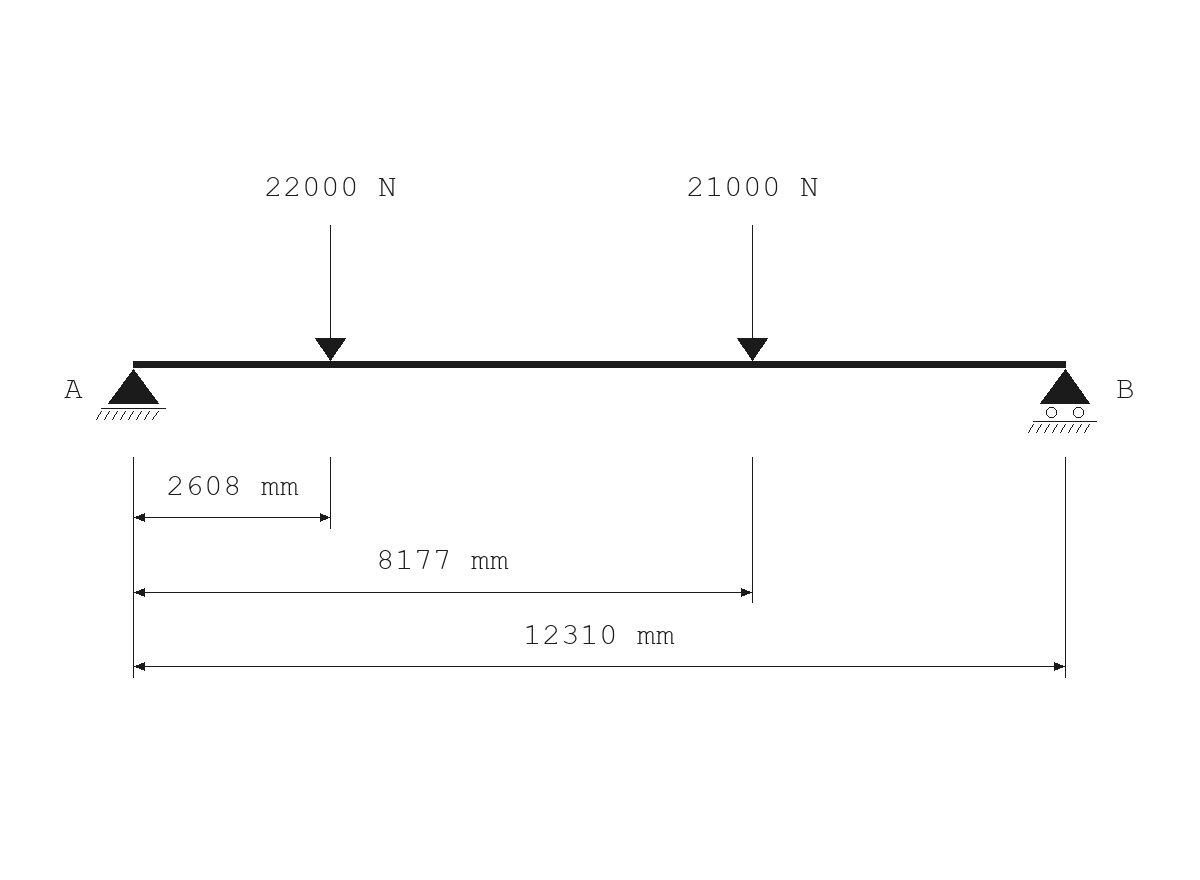pin_support: (96, 369, 166, 420)
point_load: (315, 225, 346, 361), (737, 225, 768, 361)
roller_support: (1028, 369, 1097, 433)
